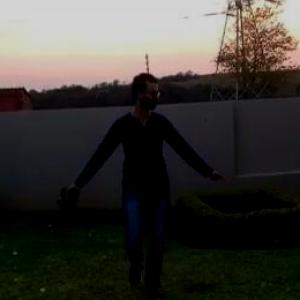land: (57, 69, 228, 299)
